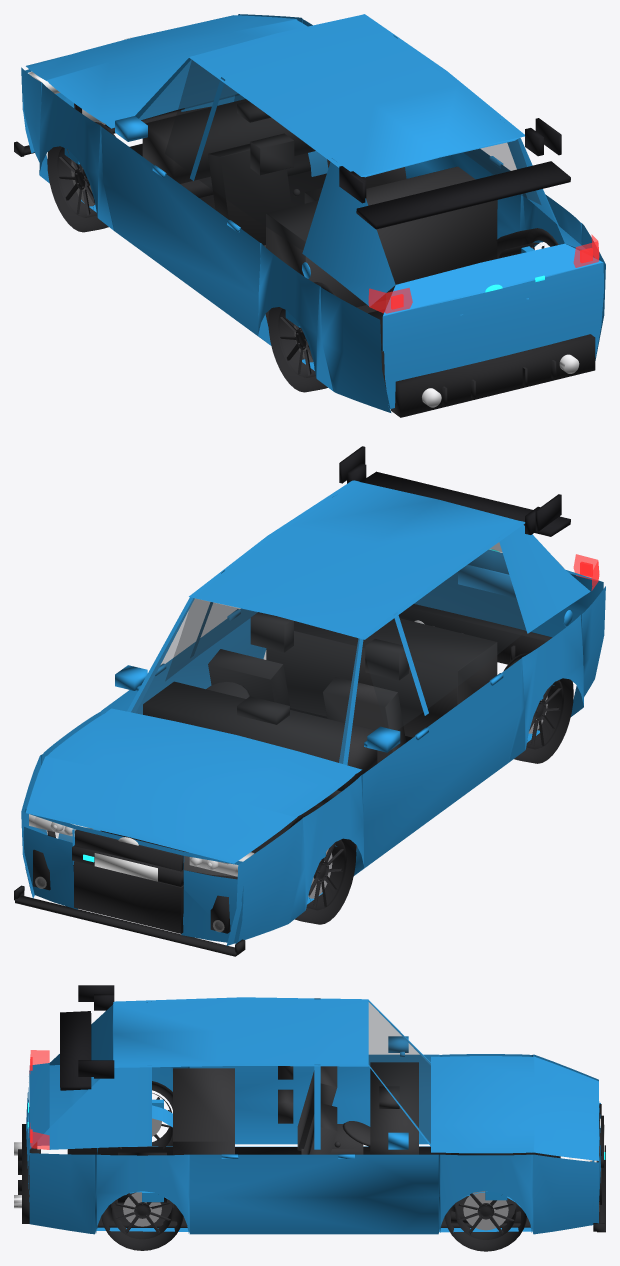
The model's file is Car_Ford_Focus_RS_Mk3_2010s.glb.
The picture shows the model from 3 angles, top to bottom: view 1: azimuth 30°, elevation 25°; view 2: azimuth 150°, elevation 25°; view 3: azimuth 270°, elevation 25°; orthographic projection. The views are drawn at different scales.
Parts seen in each view (by area): view 1: Cabin, Seats, Side_Greenhouse_Glass, Rear_Bumper_Shell, Diffuser, Rear_Spoiler, Dashboard, Windshield, Chassis, Tire_Wheel_FR, Tire_Wheel_RR, Exterior_Jewelry (+9 smaller); view 2: Cabin, Windshield, Seats, Side_Greenhouse_Glass, Dashboard, RS_Grille_Assembly, Front_Bumper_Shell, Rear_Bumper_Shell, Rear_Spoiler, Diffuser, Front_Splitter, Exterior_Jewelry (+10 smaller); view 3: Cabin, Seats, Dashboard, Windshield, Rear_Spoiler, Chassis, Tire_Wheel_RL, Tire_Wheel_FL, Diffuser, Exterior_Jewelry, BrakeDisc_Wheel_FL, Wheel_Spokes_Wheel_FL (+5 smaller).
Boxes of the visible parts, <box> form: Cabin: <box>21,14,605,412</box>; Seats: <box>208,133,497,307</box>; Side_Greenhouse_Glass: <box>165,60,540,249</box>; Rear_Bumper_Shell: <box>382,262,603,408</box>; Diffuser: <box>391,334,595,417</box>; Rear_Spoiler: <box>339,118,570,229</box>; Dashboard: <box>142,99,315,196</box>; Windshield: <box>139,59,239,120</box>; Chassis: <box>85,143,389,388</box>; Tire_Wheel_FR: <box>47,122,115,232</box>; Tire_Wheel_RR: <box>268,282,335,392</box>; Exterior_Jewelry: <box>115,116,503,278</box>; Cabin: <box>21,480,605,945</box>; Windshield: <box>131,598,359,763</box>; Seats: <box>208,612,497,807</box>; Side_Greenhouse_Glass: <box>165,542,525,730</box>; Dashboard: <box>143,681,377,791</box>; RS_Grille_Assembly: <box>72,829,183,933</box>; Front_Bumper_Shell: <box>23,808,243,943</box>; Rear_Bumper_Shell: <box>414,565,596,675</box>; Rear_Spoiler: <box>339,446,570,536</box>; Diffuser: <box>398,604,552,664</box>; Front_Splitter: <box>14,885,245,956</box>; Exterior_Jewelry: <box>115,609,572,752</box>; Cabin: <box>29,997,598,1234</box>; Seats: <box>173,1066,363,1155</box>; Dashboard: <box>334,1062,418,1154</box>; Windshield: <box>369,1002,430,1143</box>; Rear_Spoiler: <box>60,985,114,1090</box>; Chassis: <box>67,1146,560,1227</box>; Tire_Wheel_RL: <box>101,1204,183,1250</box>; Tire_Wheel_FL: <box>445,1204,526,1251</box>; Diffuser: <box>18,1124,40,1223</box>; Exterior_Jewelry: <box>221,1036,408,1158</box>; BrakeDisc_Wheel_FL: <box>463,1191,508,1230</box>; Wheel_Spokes_Wheel_FL: <box>458,1193,514,1234</box>.
Bounding box in the file's own units: 1.9 × 1.53 × 4.56.
